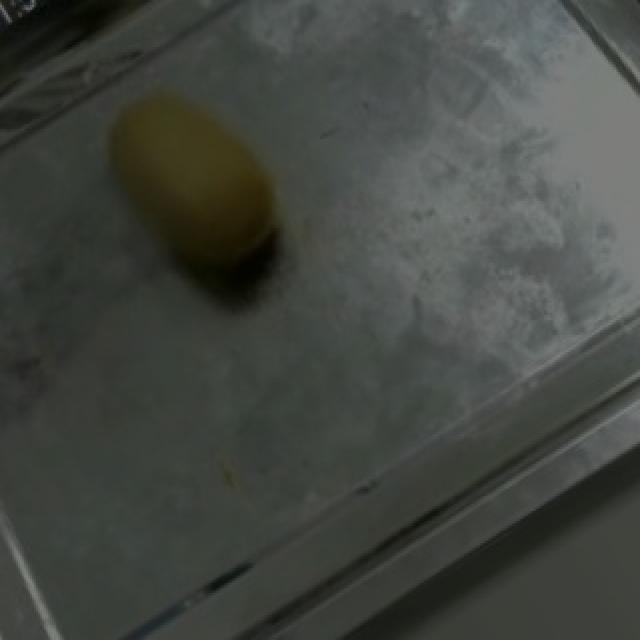Fruit: (66, 55, 320, 312)
